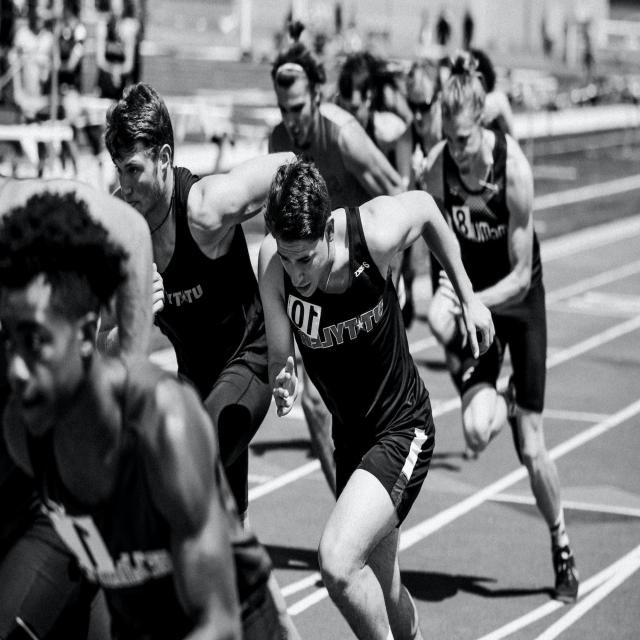adult: (0, 195, 298, 640), (258, 155, 494, 640), (426, 72, 582, 597), (103, 83, 300, 496), (256, 51, 404, 204)
